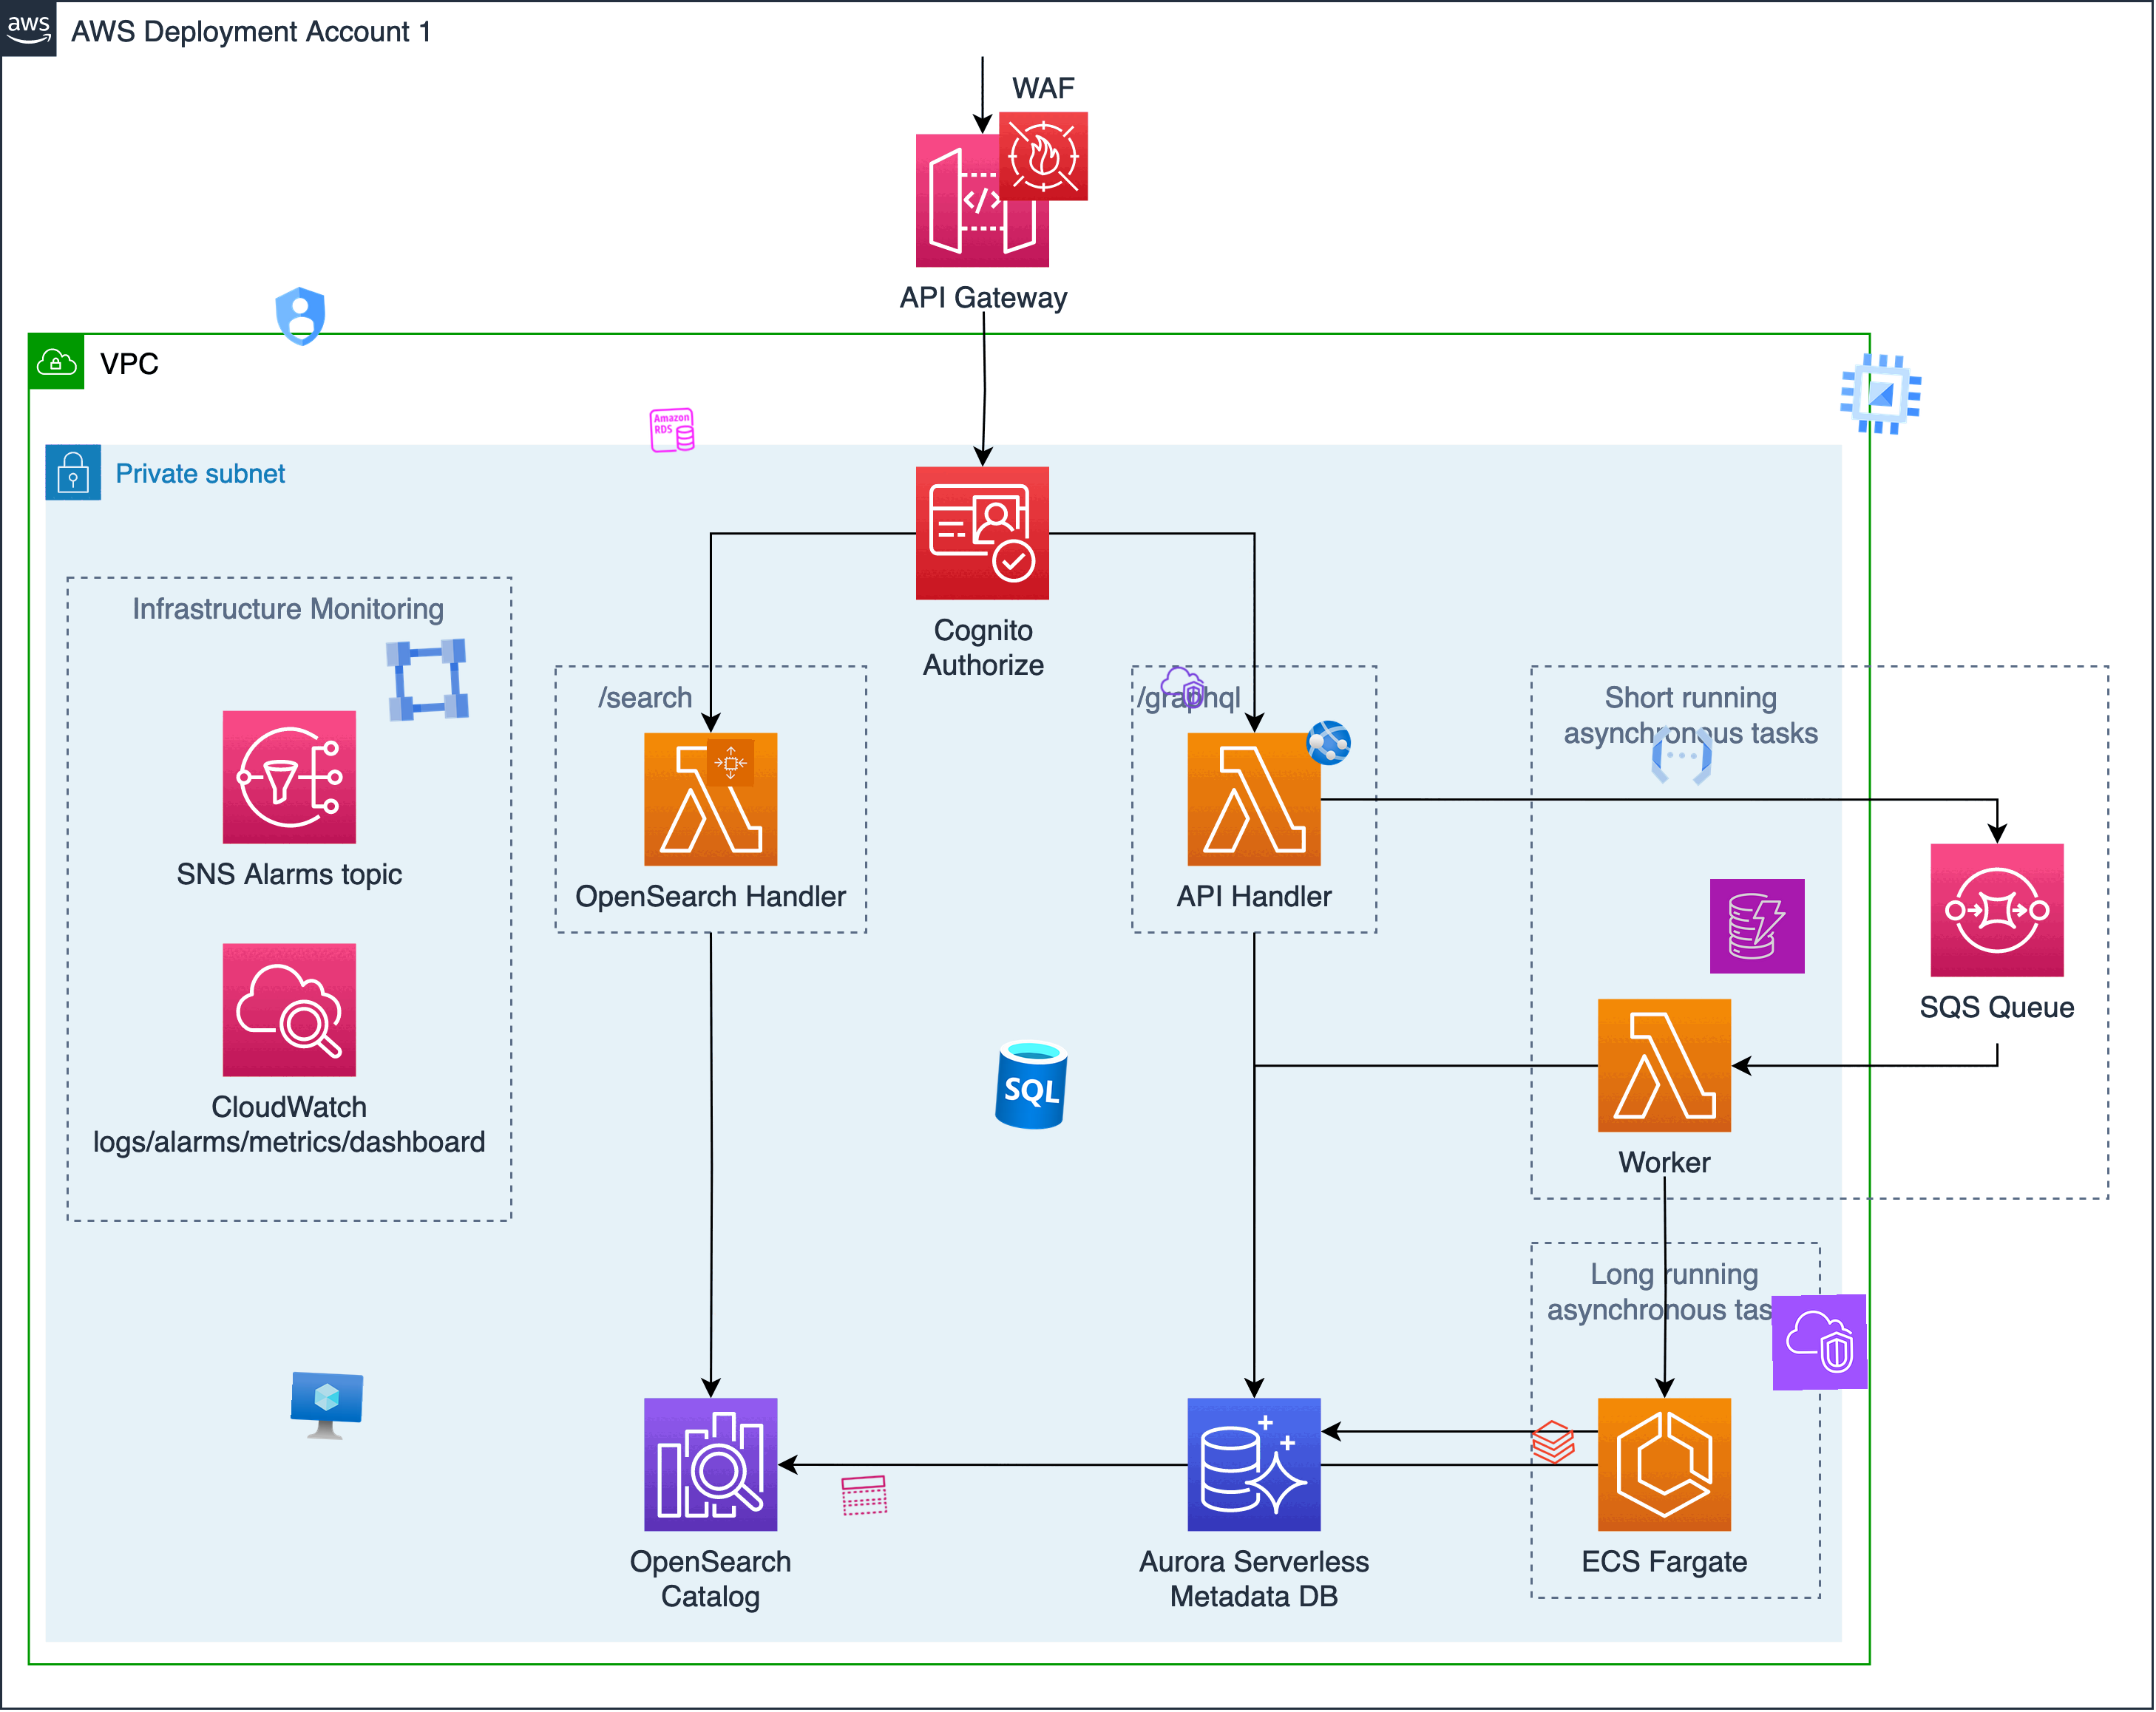aws_amazon_dynamodb: (1710, 878, 1806, 974)
aws_amazon_ec2_auto_scaling: (705, 738, 754, 787)
aws_amazon_virtual_private_cloud: (1771, 1294, 1869, 1392)
aws_aurora_amazon_rds_instance: (647, 406, 696, 455)
aws_simple_notification_service_topic: (838, 1469, 891, 1521)
aws_vpc_virtual_private_cloud_vpc: (1157, 663, 1207, 712)
azure_app_services: (1304, 717, 1355, 768)
azure_databricks: (1528, 1416, 1578, 1469)
azure_sql_database: (980, 1033, 1083, 1135)
azure_virtual_machine: (289, 1371, 364, 1446)
gcp_cloud_functions: (1645, 717, 1720, 794)
gcp_compute_engine: (1830, 343, 1932, 444)
gcp_identity_and_access_management: (262, 278, 339, 353)
gcp_virtual_private_cloud: (376, 630, 478, 731)
